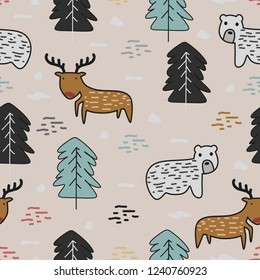animal: (44, 51, 147, 126), (135, 139, 219, 199), (195, 185, 259, 245), (219, 10, 260, 59)
tree: (162, 38, 210, 107), (58, 136, 98, 209), (1, 101, 32, 175), (141, 1, 186, 38), (148, 226, 190, 260), (47, 231, 95, 259), (55, 1, 88, 41)
